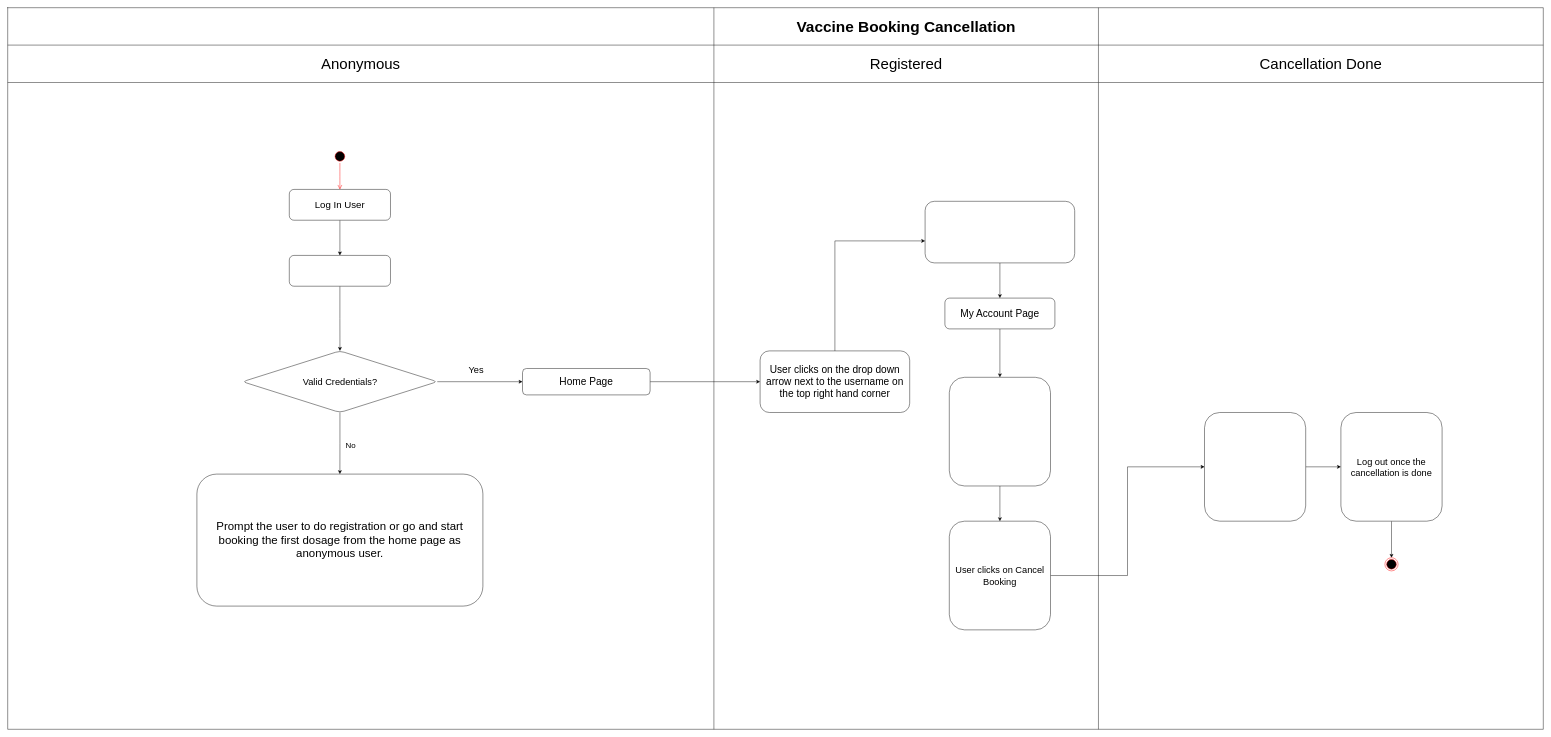
Image size: 1551x737. Some labels were removed from this diagram. The centre of each missing label's shape, as x and y in pixels:
"Hi Username" belongs at point (1000, 232).
"The upcoming booking gets updates with a canceled message in the My Account Tab." belongs at point (1255, 466).
"User enters email and password" belongs at point (339, 270).
"User views the dashboard, Upcoming Booking Details and Dose Taken" belongs at point (999, 431).
